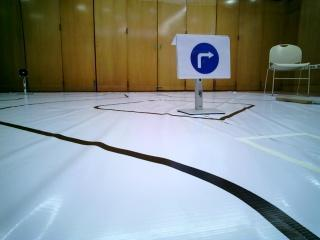right: (182, 36, 230, 77)
